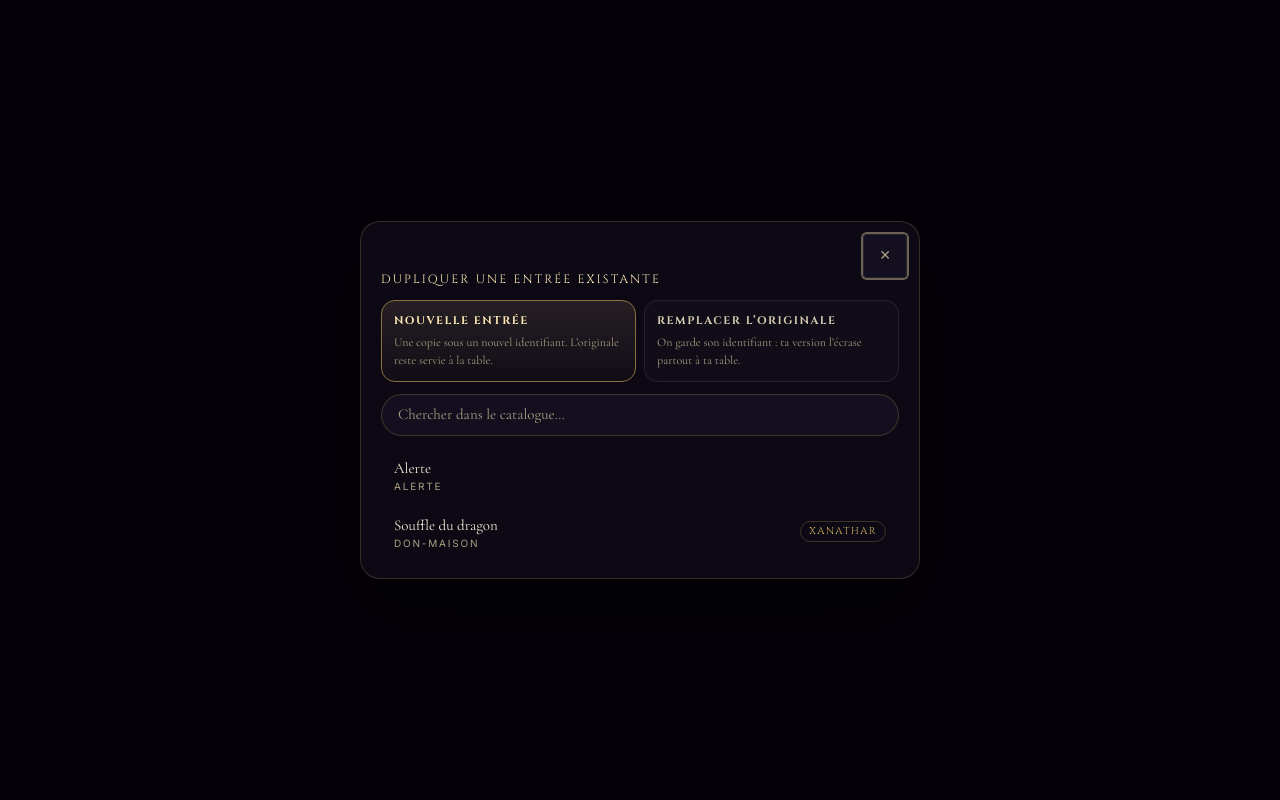
Test case: <CataloguePickerModal> › filtre par nom, accents ignorés
In the search field named "dupliquer": coordinates (640, 415) x1=381 y1=394 x2=899 y2=436, type "souffle"
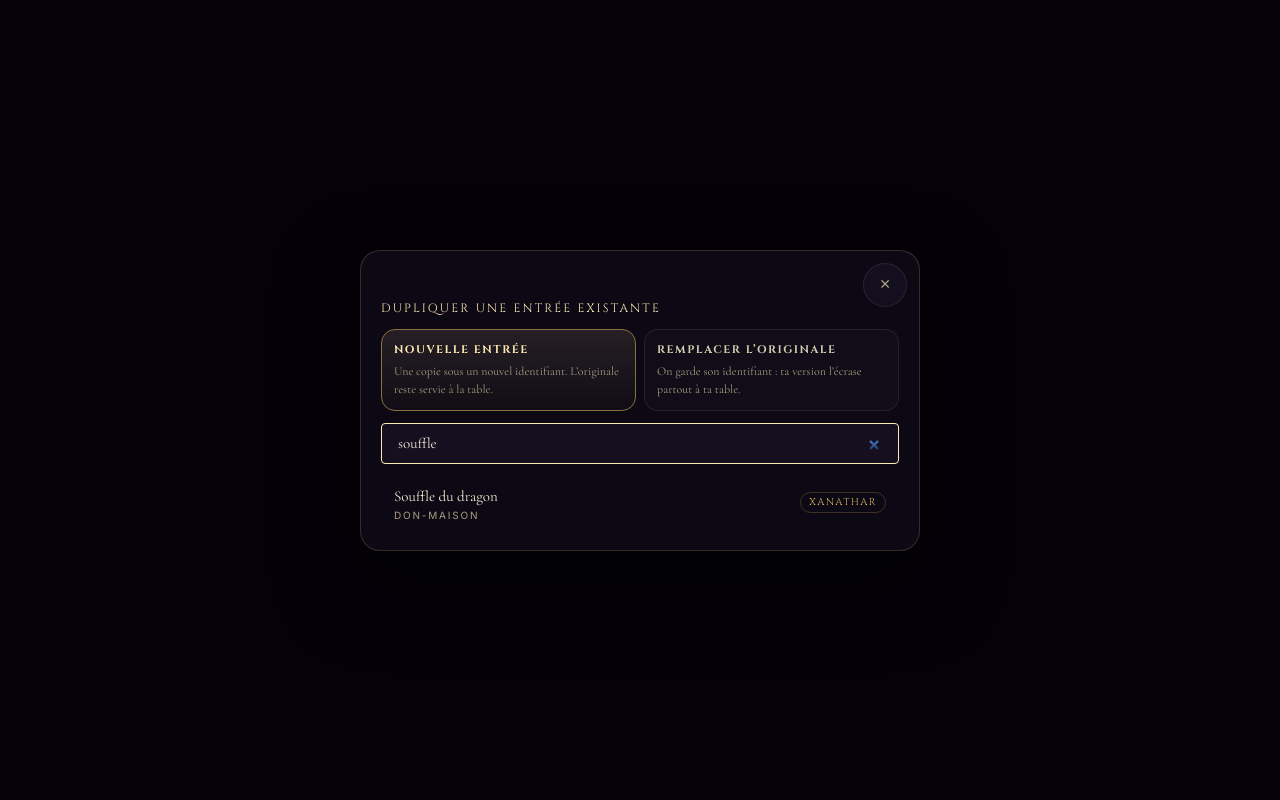
Check: the button with test id "catalogue-pick-don-maison" is shown, box x1=381 y1=476 x2=899 y2=530
Check: the button with test id "catalogue-pick-alerte" is gone
